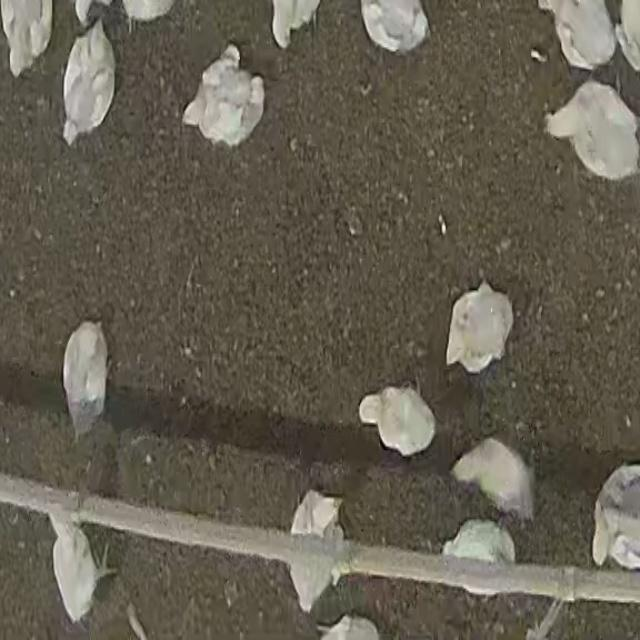chicken: (550, 81, 638, 179), (190, 48, 267, 143), (443, 280, 518, 377), (50, 516, 114, 626), (438, 516, 521, 600), (452, 437, 536, 519), (60, 21, 115, 144), (291, 492, 347, 609), (359, 382, 440, 460), (59, 325, 109, 437), (589, 462, 639, 572), (543, 1, 615, 71), (1, 0, 54, 74), (362, 1, 428, 54), (270, 1, 325, 48)
